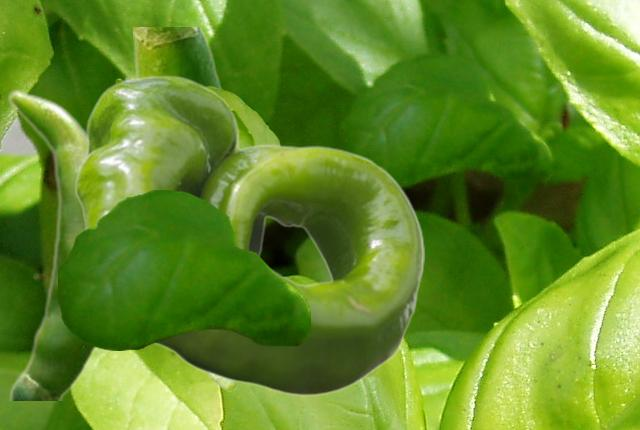green_chili: (75, 75, 423, 395), (133, 27, 234, 390), (6, 88, 98, 399)
